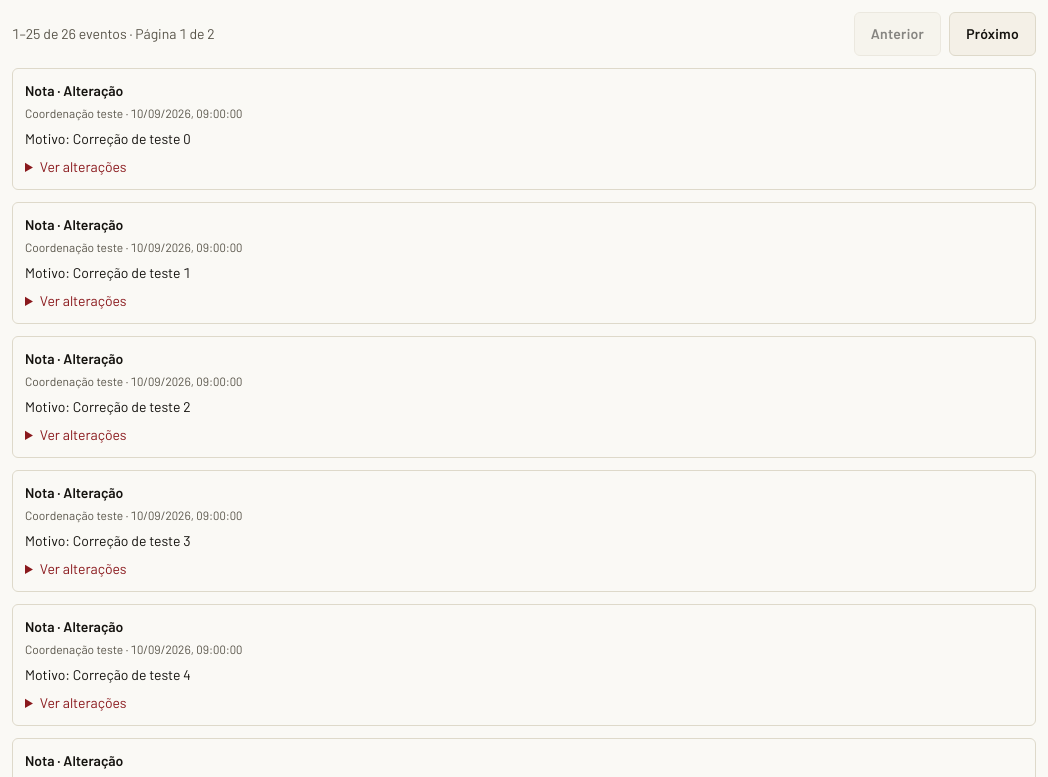
Gestão acadêmica: decisões e lançamento › pagina o histórico sem omitir eventos posteriores aos primeiros 25
This screenshot has width=1048, height=777.
Expected: the text "1–25 de 26 eventos · Página 1 de 2" is shown, [12,24,215,44]
Expected: the text "Motivo: Correção de teste 25" is not shown
Step 1. Click the button "Próximo" → (993, 34), box [949,12,1036,56]
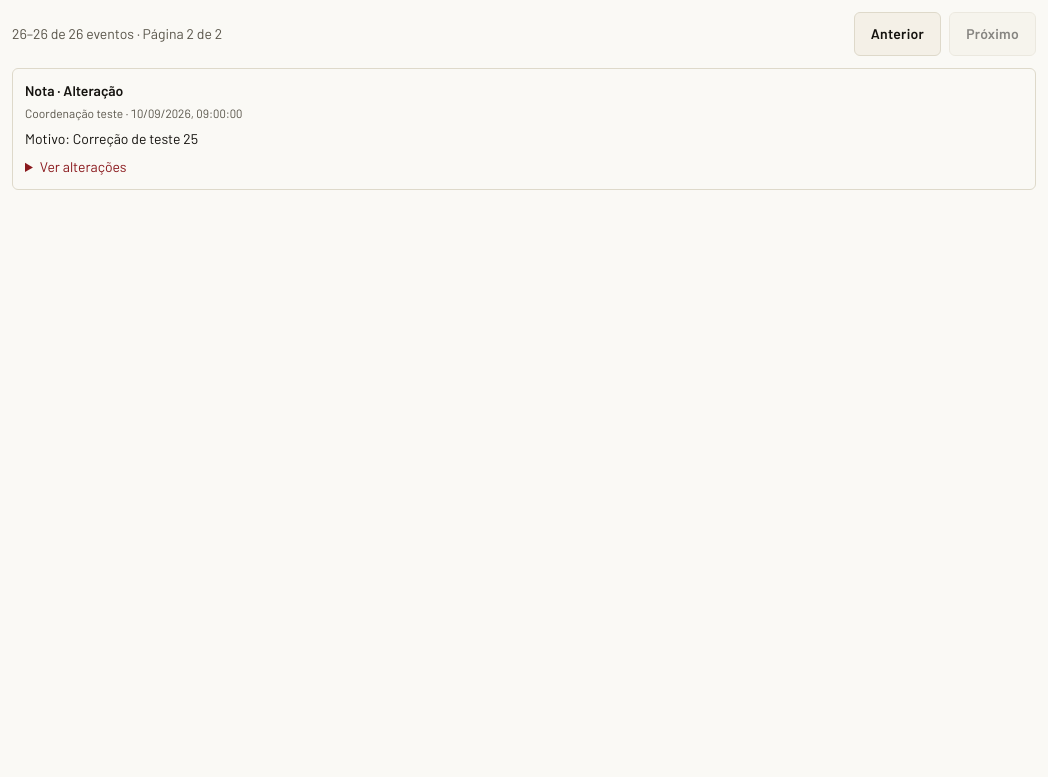
Expected: the text "Motivo: Correção de teste 25" is shown, [25,130,198,147]
Expected: the text "26–26 de 26 eventos · Página 2 de 2" is shown, [12,24,222,44]
Expected: the button "Próximo" is disabled, [949,12,1036,56]
